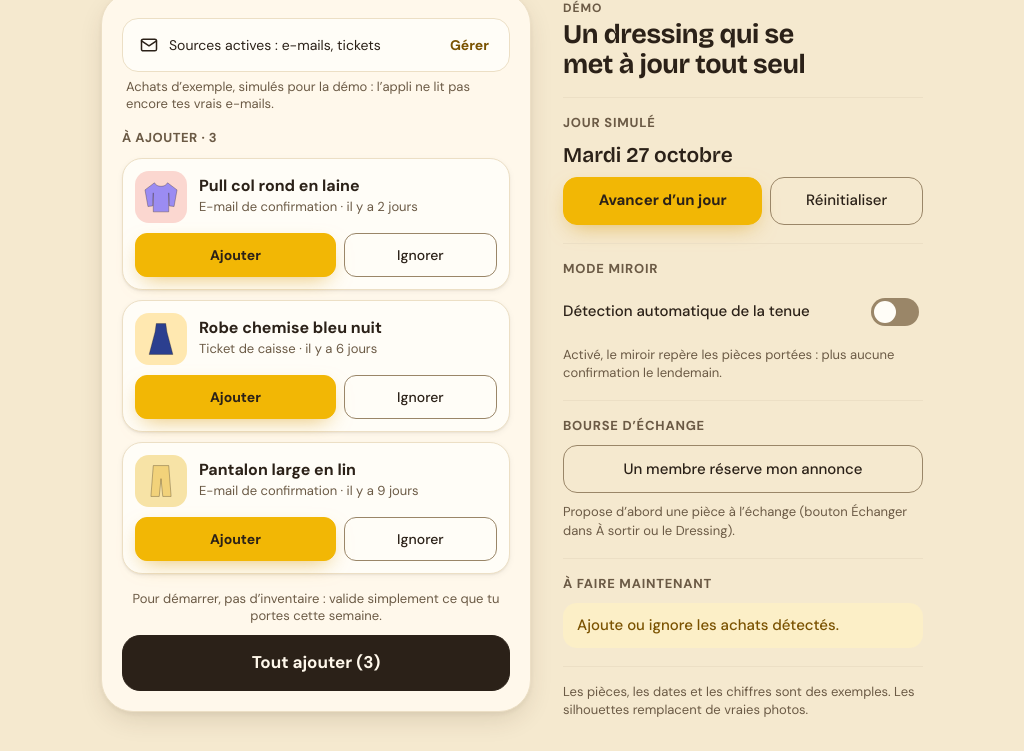
Scenario: Achats détectés › Tout ajouter ajoute les 3 pièces et revient au dressing
(page scrolled)
Step 1. Click the button "Tout ajouter (3)" → [316, 663], box [122,635,510,691]
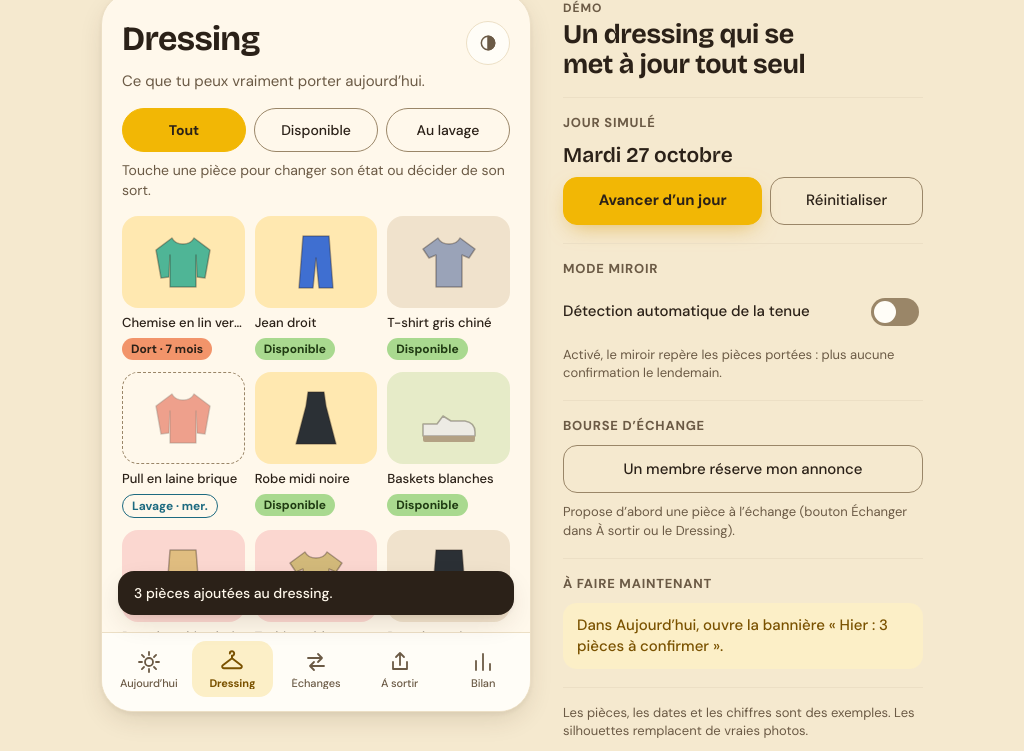
Check: the text "3 pièces ajoutées au dressing." is shown, box [134,583,332,603]
Check: the message "achats détectés" is gone
